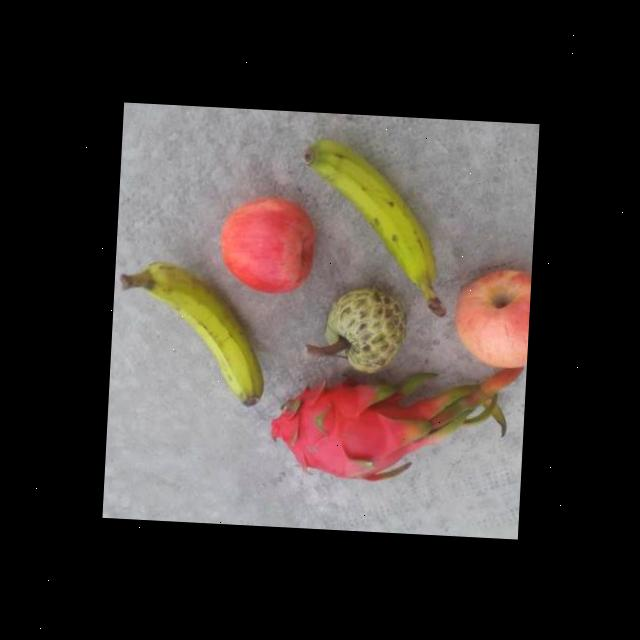Sakya fruit: (302, 280, 408, 374)
apple: (216, 191, 316, 295), (444, 256, 532, 370)
banana: (286, 133, 458, 320), (108, 253, 268, 409)
pitaya: (262, 370, 436, 492)
